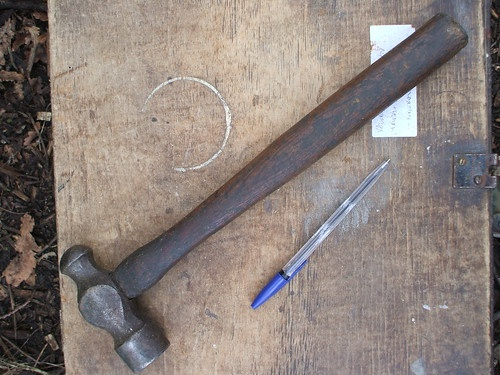hammer: (62, 11, 469, 370)
